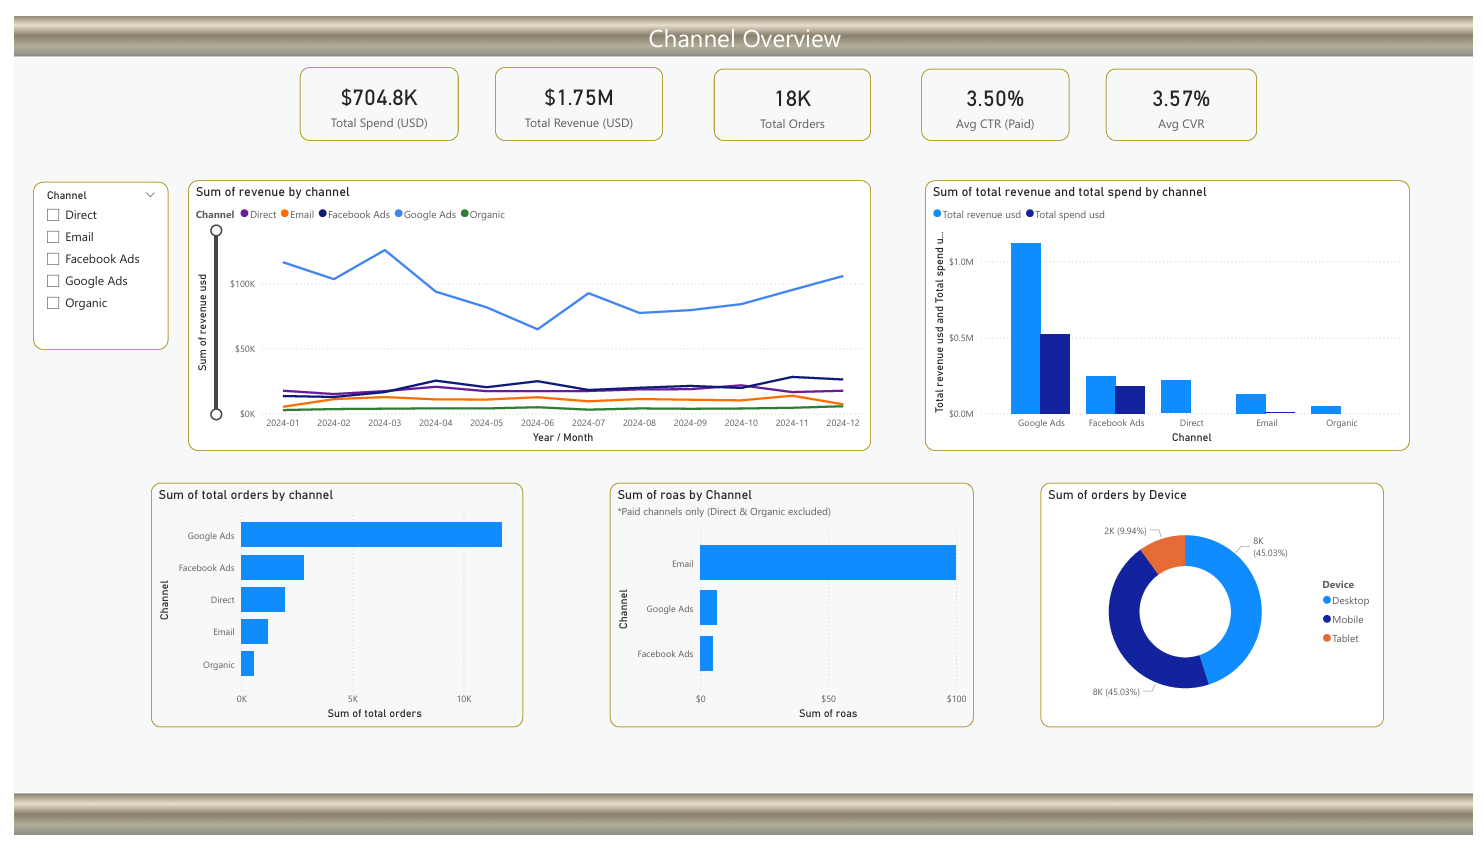

The page's visual inventory and layout, read from the dashboard file:
{"tool":"powerbi","page":{"name":"Channel Overview","canvas":[1920,1080],"ordinal":0},"visuals":[{"type":"card","fields":{"Values":["Sum(v_channel_performance.total_orders)"]},"box":[921.2,68.8,206.4,95.6],"z":0},{"type":"card","fields":{"Values":["Sum(v_channel_performance.total_revenue_usd)"]},"box":[632.6,66.9,221.7,97.5],"z":1000},{"type":"card","fields":{"Values":["Sum(v_channel_performance.total_spend_usd)"]},"box":[376.5,66.9,208.3,97.5],"z":2000},{"type":"card","fields":{"Values":["_measure.Avg CTR (Paid)"]},"box":[1194.5,68.8,194.9,95.6],"z":3000},{"type":"card","fields":{"Values":["_measure.Avg CVR"]},"box":[1437.2,68.8,198.8,95.6],"z":4000},{"type":"clusteredBarChart","title":"Sum of total orders by channel","fields":{"Category":["v_channel_performance.channel"],"Y":["Sum(v_channel_performance.total_orders)"]},"box":[180.1,613.6,489.7,322.7],"z":5000},{"type":"clusteredColumnChart","title":"Sum of total revenue and total spend by channel","fields":{"Category":["v_channel_performance.channel"],"Y":["Sum(v_channel_performance.total_revenue_usd)","Sum(v_channel_performance.total_spend_usd)"]},"box":[1199,215.8,638,356.5],"z":6000},{"type":"clusteredBarChart","fields":{"Category":["v_channel_performance.channel"],"Y":["Sum(v_channel_performance.roas)"]},"box":[784.3,613.6,478.5,322.7],"z":7000},{"type":"lineChart","title":"Sum of revenue by channel","fields":{"Category":["v_monthly_channel_trend.year_month"],"Y":["Sum(v_monthly_channel_trend.revenue_usd)"],"Series":["v_monthly_channel_trend.channel"]},"box":[228.9,215.8,898.8,356.5],"z":8000},{"type":"donutChart","fields":{"Category":["v_device_channel_conversion.device"],"Y":["Sum(v_device_channel_conversion.orders)"]},"box":[1351,613.6,452.2,322.7],"z":9000},{"type":"textbox","box":[726.2,0,472.1,66.9],"z":10000},{"type":"slicer","fields":{"Values":["dim_channel.channel"]},"box":[24.5,218.3,178.2,220.5],"z":12000}]}

Visuals, with their boxes in screenshot pixels (x1, y1, x2, y2), scaled from the page's 1920x1080 canvas onto the 1484x849 screenshot:
card - Sum(v_channel_performance.total_orders): {"left": 712, "top": 54, "right": 872, "bottom": 129}
card - Sum(v_channel_performance.total_revenue_usd): {"left": 489, "top": 53, "right": 660, "bottom": 129}
card - Sum(v_channel_performance.total_spend_usd): {"left": 291, "top": 53, "right": 452, "bottom": 129}
card - _measure.Avg CTR (Paid): {"left": 923, "top": 54, "right": 1074, "bottom": 129}
card - _measure.Avg CVR: {"left": 1111, "top": 54, "right": 1264, "bottom": 129}
"Sum of total orders by channel" clusteredBarChart: {"left": 139, "top": 482, "right": 518, "bottom": 736}
"Sum of total revenue and total spend by channel" clusteredColumnChart: {"left": 927, "top": 170, "right": 1420, "bottom": 450}
clusteredBarChart - v_channel_performance.channel x Sum(v_channel_performance.roas): {"left": 606, "top": 482, "right": 976, "bottom": 736}
"Sum of revenue by channel" lineChart: {"left": 177, "top": 170, "right": 872, "bottom": 450}
donutChart - v_device_channel_conversion.device x Sum(v_device_channel_conversion.orders): {"left": 1044, "top": 482, "right": 1394, "bottom": 736}
textbox: {"left": 561, "top": 0, "right": 926, "bottom": 53}
slicer - dim_channel.channel: {"left": 19, "top": 172, "right": 157, "bottom": 345}
